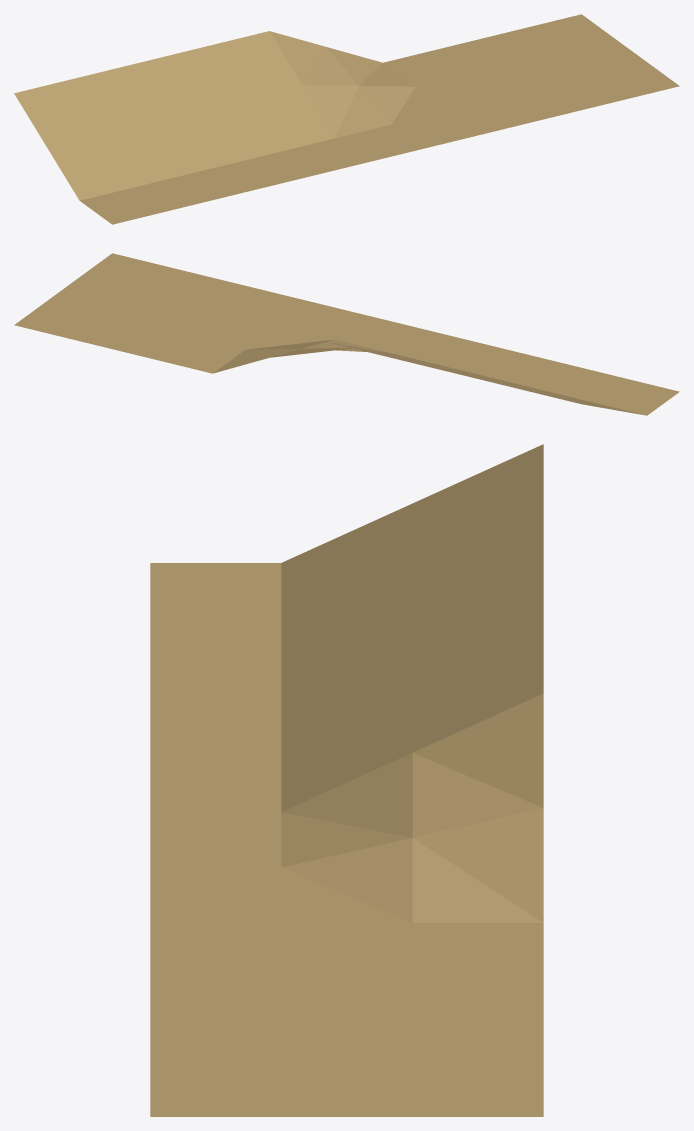
File: innroad.glb
3 views of the same model, one above another, from view 1: azimuth 30°, elevation 25°; view 2: azimuth 150°, elevation 25°; view 3: azimuth 270°, elevation 25° (orthographic). The views are drawn at different scales.
Parts seen in each view (by area): view 1: innroad; view 2: innroad; view 3: innroad.
Part boxes in pixels (x1,y1,x2,y2): innroad: [14, 14, 679, 224]; innroad: [14, 253, 679, 415]; innroad: [150, 444, 543, 1116].
Bounding box in the file's own units: 20 × 2 × 6.
